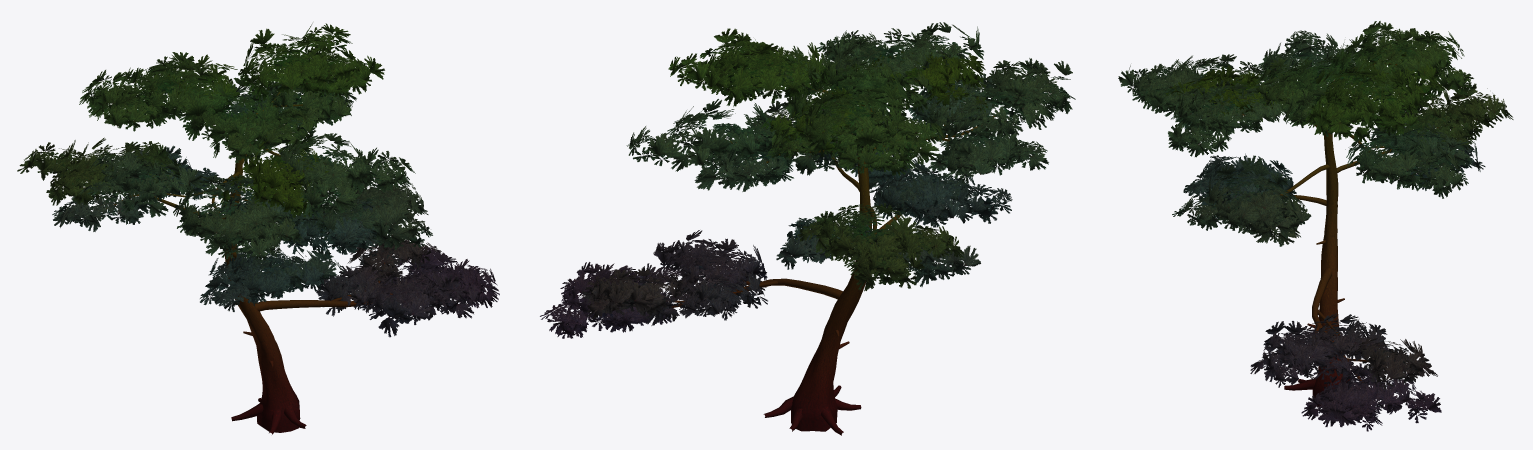
Rendered from pine_1.glb.
The picture shows the model from 3 angles, left to right: view 1: azimuth 30°, elevation 25°; view 2: azimuth 150°, elevation 25°; view 3: azimuth 270°, elevation 25°; orthographic projection. The views are drawn at different scales.
Parts seen in each view (by area): view 1: pine_1; view 2: pine_1; view 3: pine_1.
Part boxes in pixels (left/top/right/bottom): pine_1: left=17, top=23, right=499, bottom=434; pine_1: left=540, top=22, right=1075, bottom=435; pine_1: left=1118, top=21, right=1513, bottom=431.
Size of the model in its own units: 17.38 by 13.63 by 14.53.
2 materials, 2 textured.
